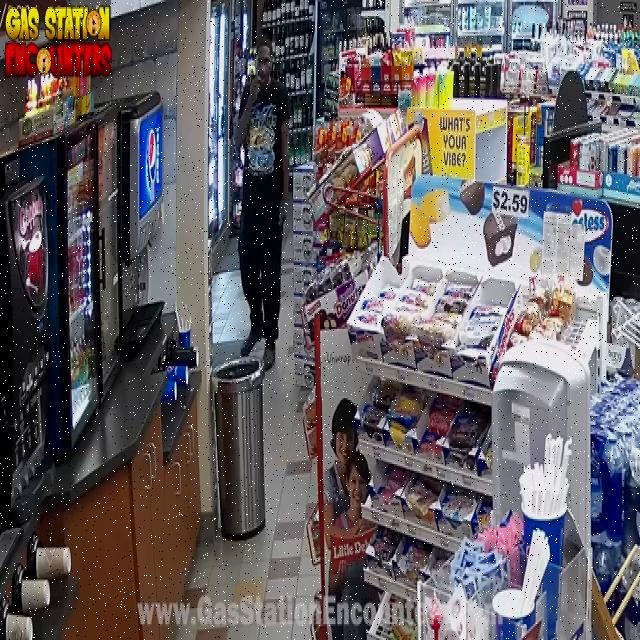hands: (234, 78, 262, 144), (280, 121, 289, 220)
person: (234, 41, 289, 368)
